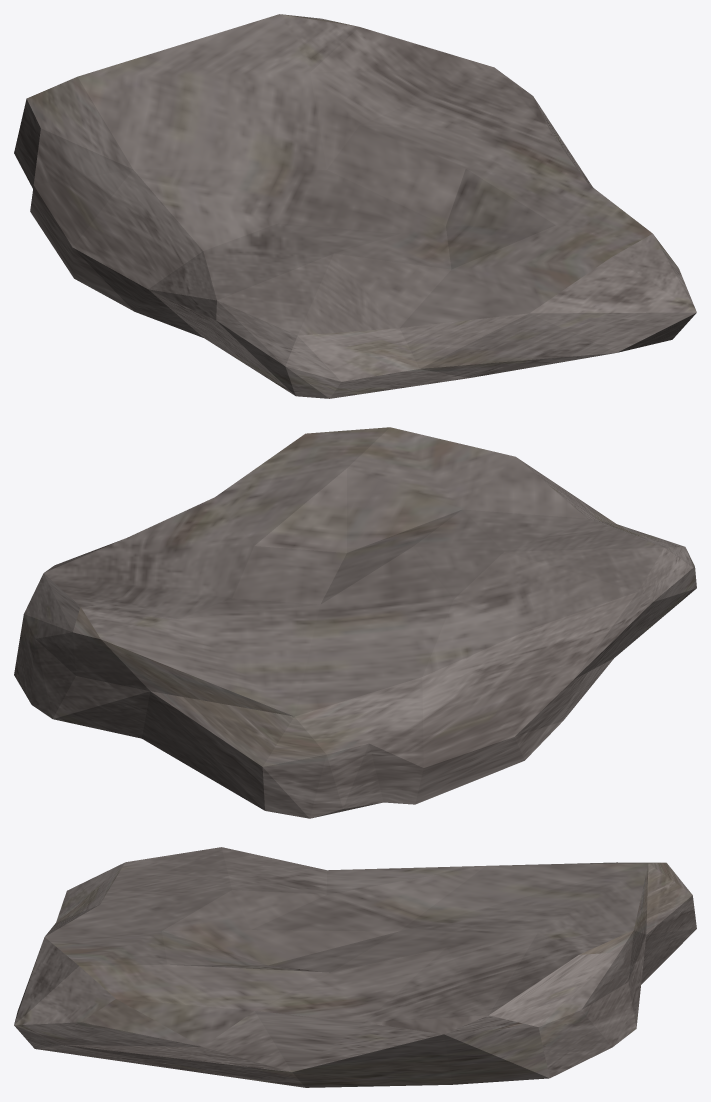
The model's file is rock_03.fbx.
3 views of the same model, one above another, from view 1: azimuth 30°, elevation 25°; view 2: azimuth 150°, elevation 25°; view 3: azimuth 270°, elevation 25° (orthographic). The views are drawn at different scales.
Parts seen in each view (by area): view 1: Cube.001; view 2: Cube.001; view 3: Cube.001.
Part boxes in pixels (left/top/right/bottom): Cube.001: left=14, top=14, right=696, bottom=398; Cube.001: left=14, top=427, right=696, bottom=818; Cube.001: left=14, top=847, right=696, bottom=1087.
Size of the model in its own units: 222 by 54.82 by 317.
